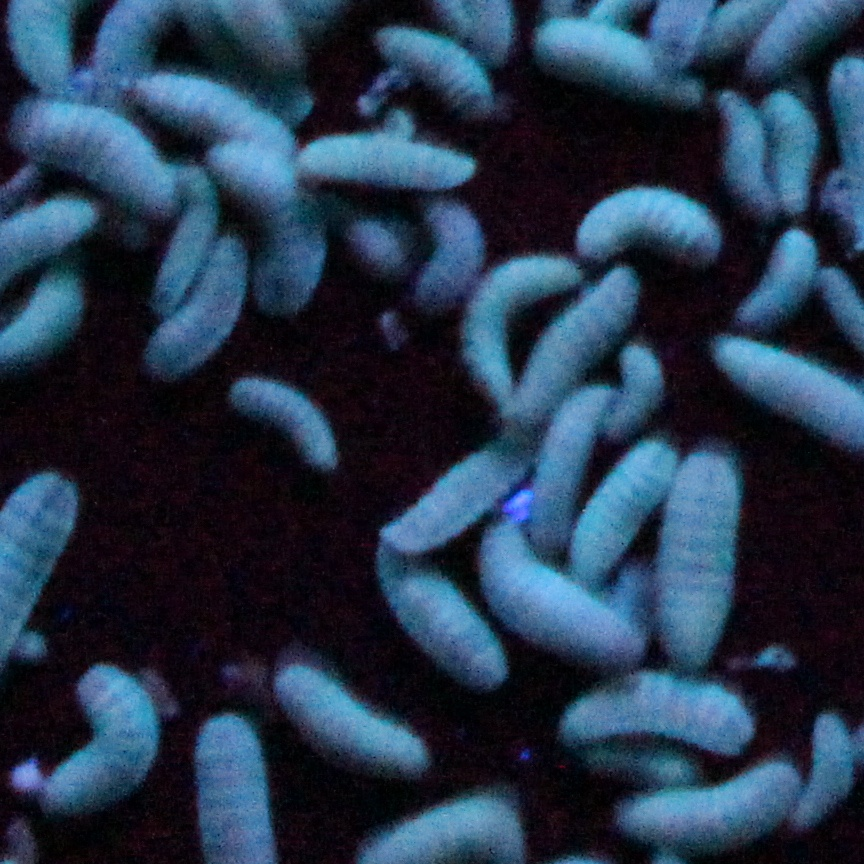larve: (472, 521, 651, 668), (506, 266, 654, 432), (517, 264, 647, 432), (374, 541, 510, 684), (31, 662, 163, 805), (274, 657, 438, 771), (463, 250, 581, 405), (660, 437, 738, 668), (615, 759, 808, 848), (565, 437, 679, 584), (556, 678, 760, 757), (533, 378, 620, 559), (376, 448, 515, 555), (126, 68, 297, 143), (147, 239, 242, 373), (229, 373, 347, 475), (576, 182, 722, 264), (381, 18, 495, 105), (297, 139, 490, 189), (156, 162, 213, 321), (535, 16, 665, 84), (758, 84, 817, 214), (742, 234, 820, 330), (720, 91, 774, 209), (606, 339, 660, 437)
